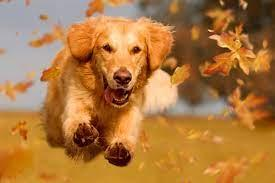Dog: (68, 14, 173, 110)
